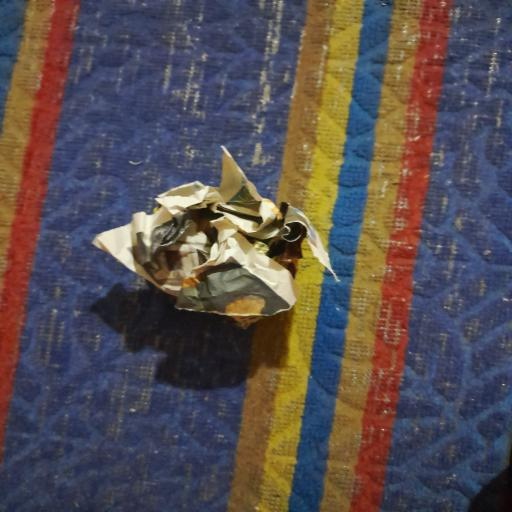waste: (82, 141, 350, 329)
